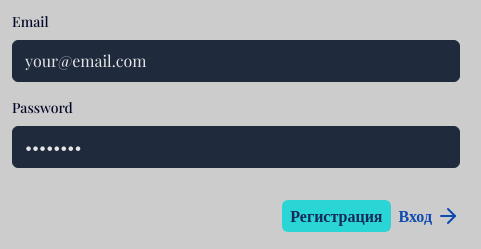
Scenario: SignupForm › shows loading state during register
Step 1. Type "test@test.com" into the field labelled "Email" → (236, 61), box [12,40,460,82]
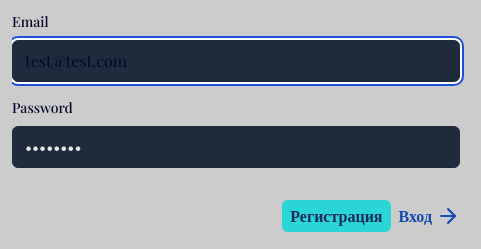
Step 2. Type "testtest123" into the password field labelled "Password" → (236, 147), box [12,126,460,168]
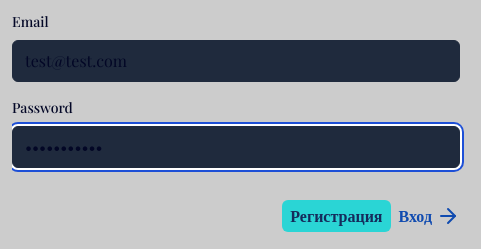
Step 3. Click the button "Регистрация" → (336, 216), box [282,200,390,232]
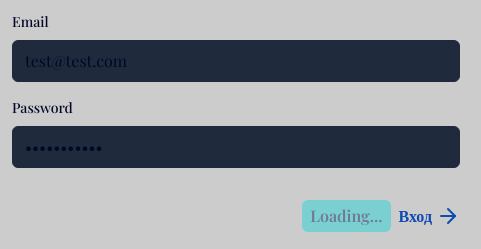
Now the button "Loading..." is shown, box [302,200,390,232]
